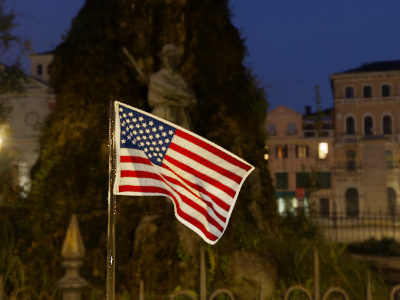America flag: (114, 99, 255, 245)
